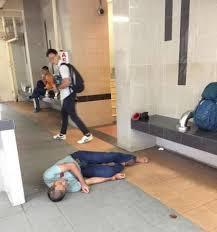Fall-Detected: (39, 143, 150, 202)
